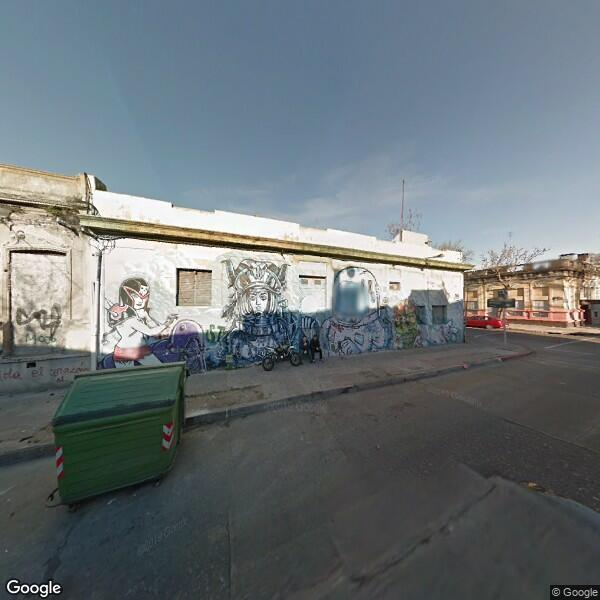Trash: (48, 362, 185, 504)
